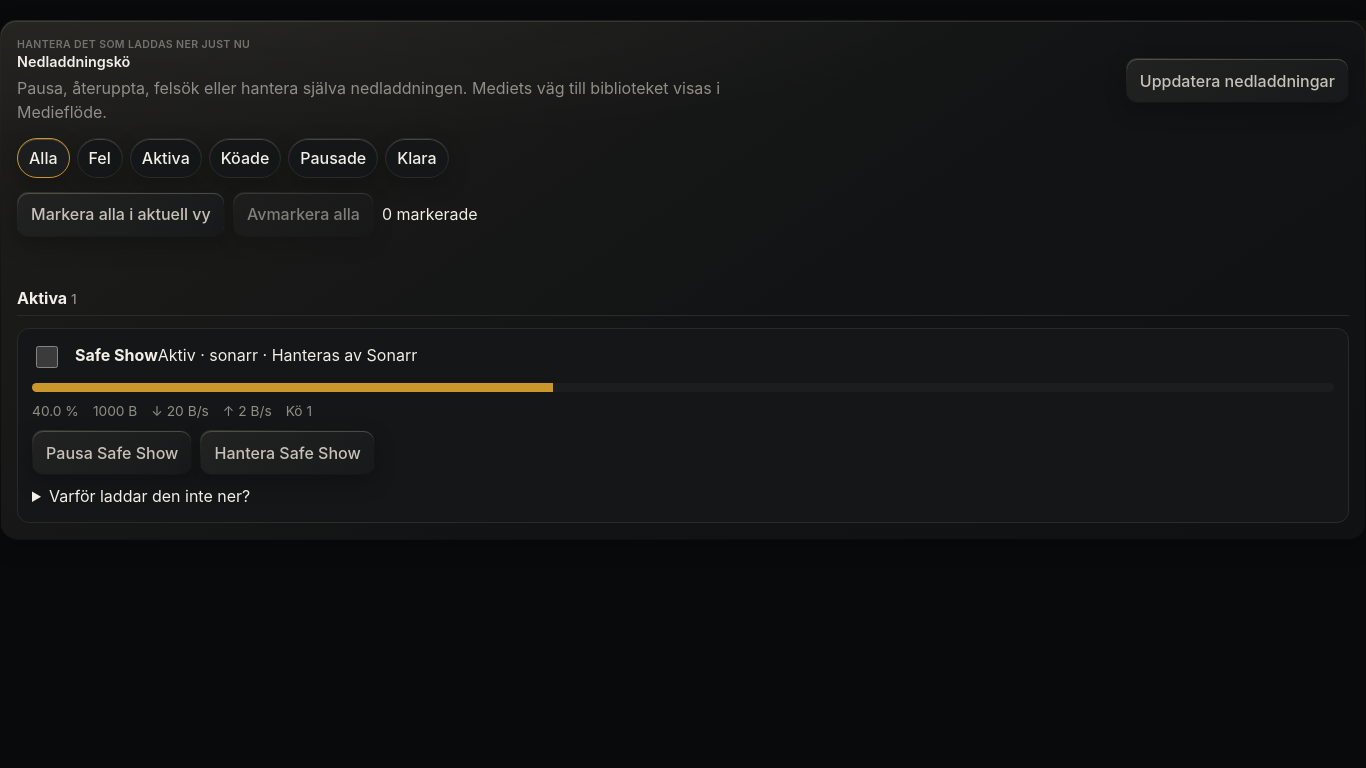
Scenario: destructive action is separate, requires checkbox and Escape closes before mutation
Click the button "Hantera Safe Show".
click(288, 453)  # box [200, 430, 375, 475]
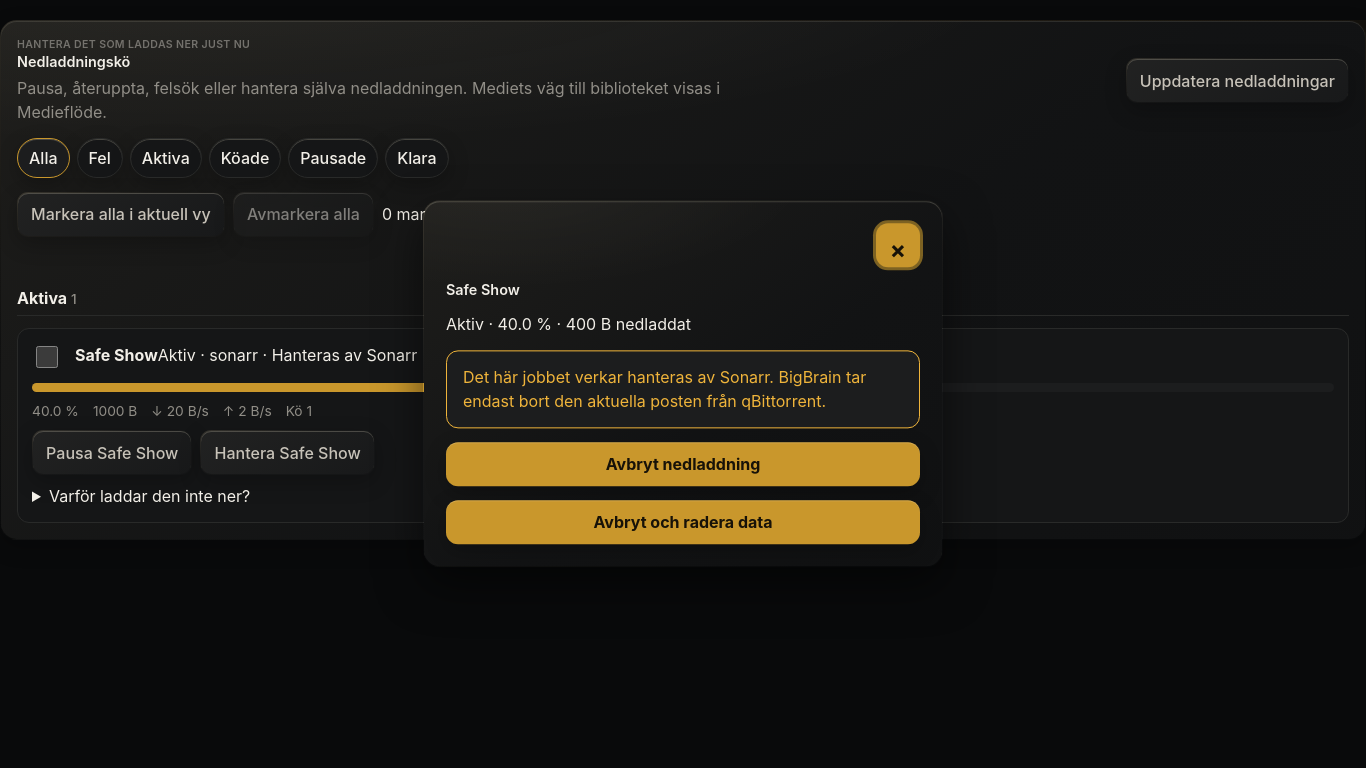
Click the button "Avbryt och radera data".
click(683, 523)  # box [446, 501, 920, 545]
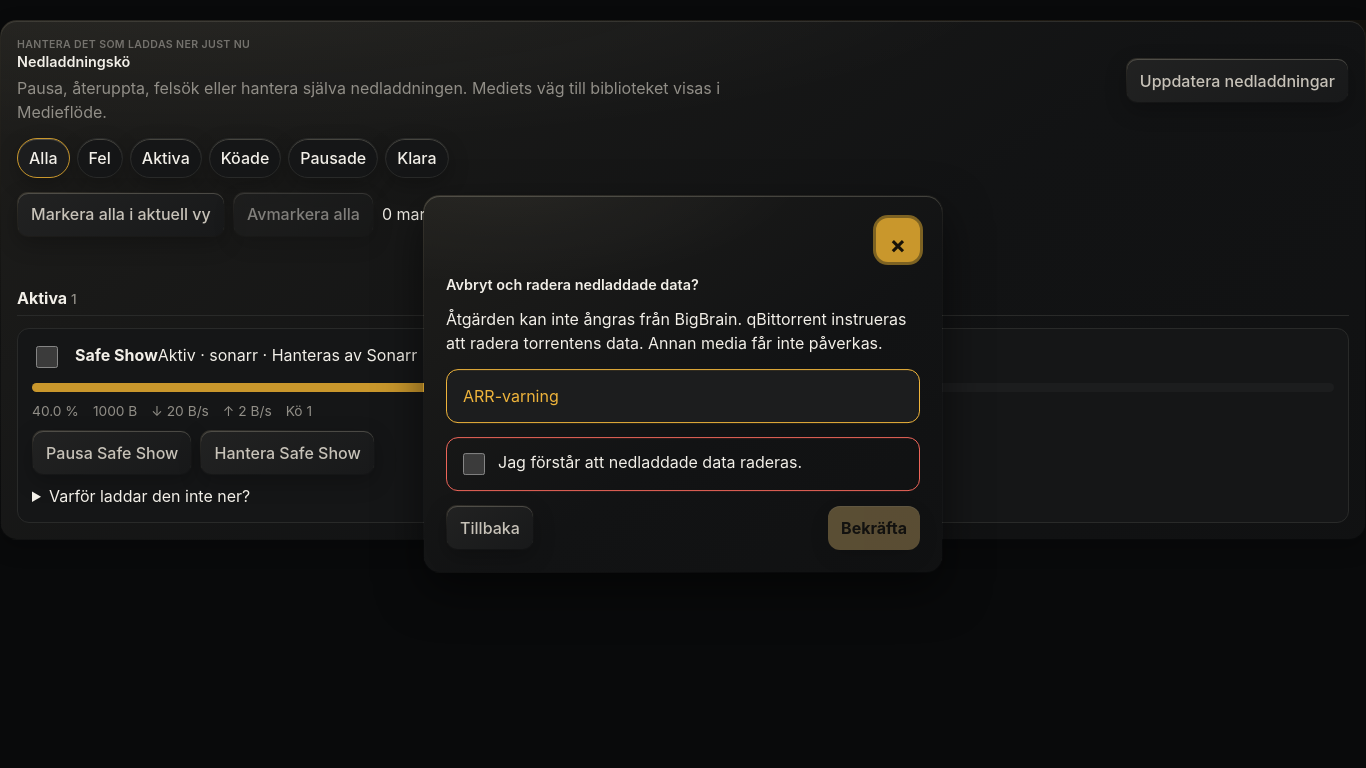
Expected: the button "Bekräfta" is disabled, [828, 506, 920, 550]
Click the checkbox labelled "Jag förstår att nedladdade data raderas.".
click(474, 464)  # box [463, 453, 485, 475]
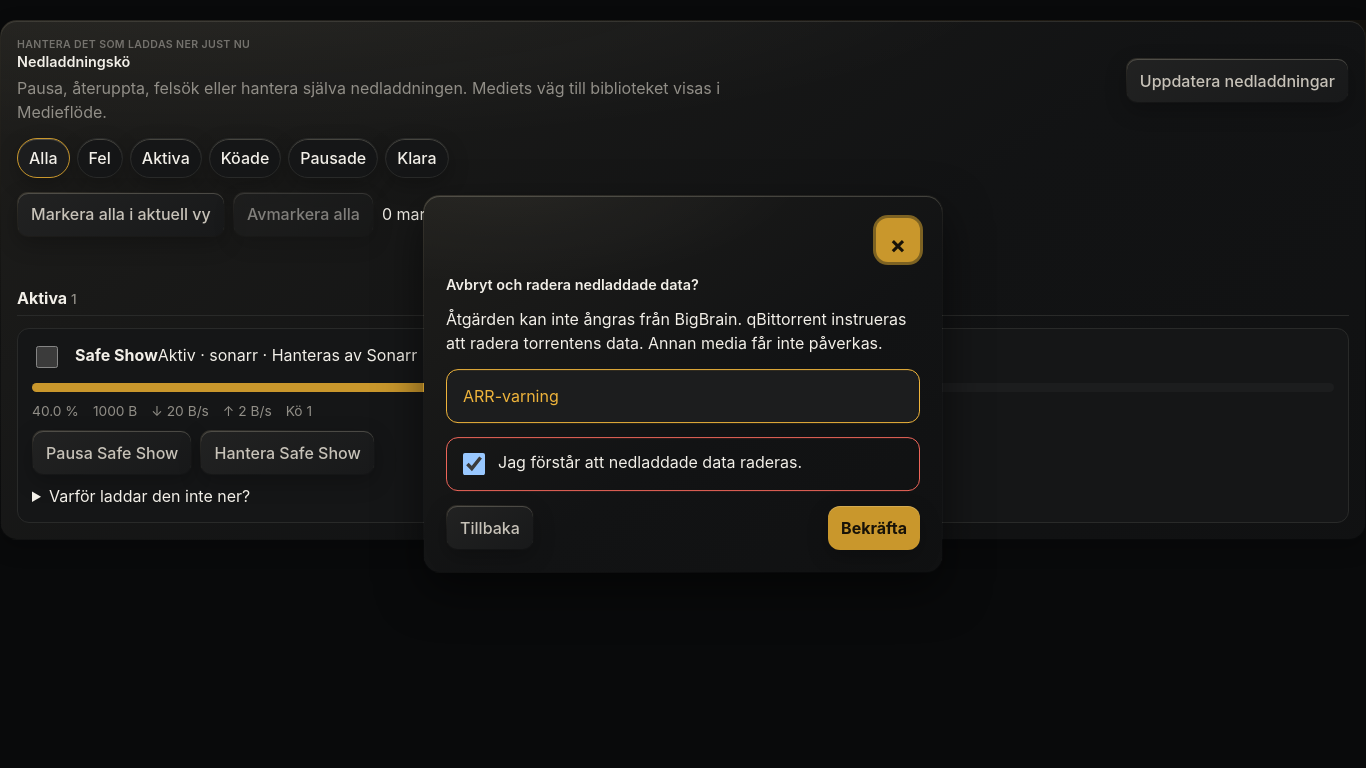
Expected: the button "Bekräfta" is enabled, [828, 506, 920, 550]
Press Escape
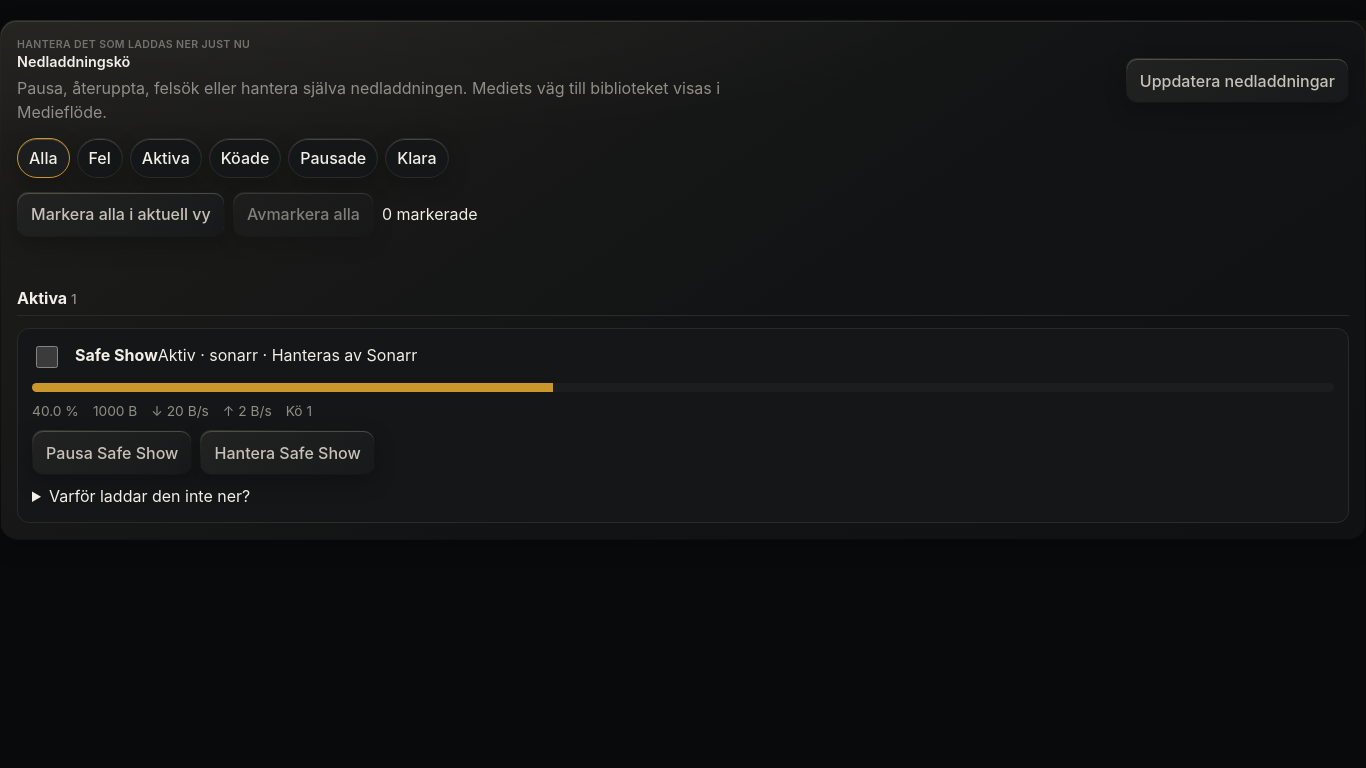
Expected: the dialog is gone
